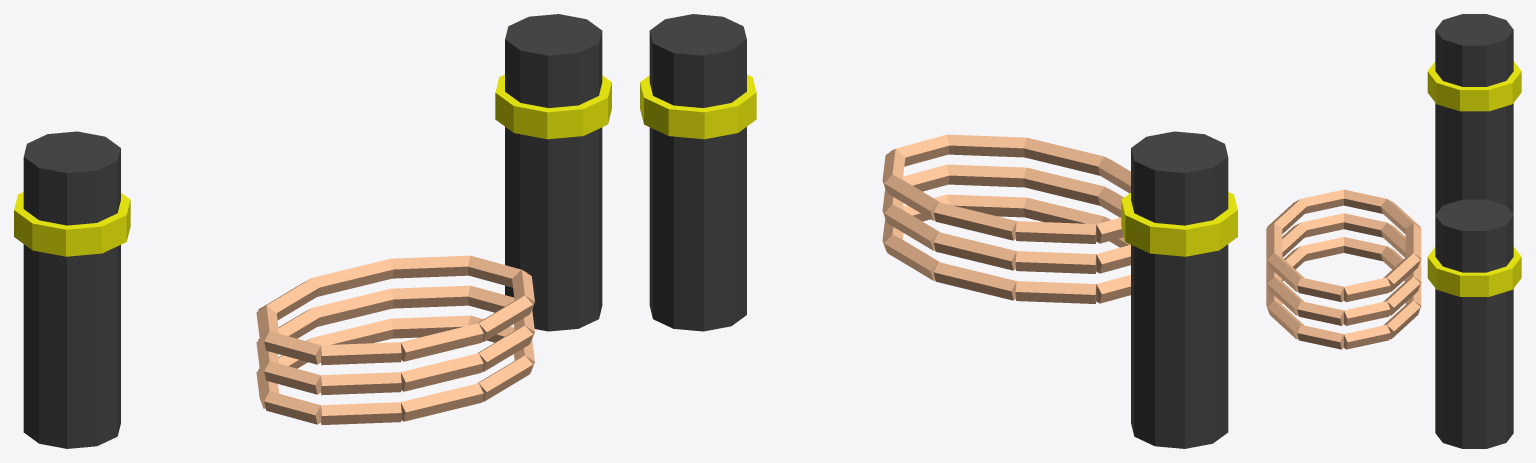
The picture shows the model from 3 angles, left to right: view 1: azimuth 30°, elevation 25°; view 2: azimuth 150°, elevation 25°; view 3: azimuth 270°, elevation 25°; orthographic projection. The views are drawn at different scales.
Parts seen in each view (by area): view 1: Mooring post, Mooring post.001, Post collar, Post collar.001, Coiled rope.007, Coiled rope.017, Coiled rope.027, Coiled rope.016, Coiled rope.026, Coiled rope.006, Coiled rope.012, Coiled rope.022 (+15 smaller); view 2: Mooring post, Mooring post.001, Post collar, Post collar.001, Coiled rope.022, Coiled rope.002, Coiled rope.012, Coiled rope.003, Coiled rope.023, Coiled rope.013, Coiled rope.027, Coiled rope.017 (+12 smaller); view 3: Mooring post.001, Mooring post, Post collar, Post collar.001, Coiled rope.029, Coiled rope.019, Coiled rope.009, Coiled rope, Coiled rope.020, Coiled rope.010, Coiled rope.025, Coiled rope.015 (+18 smaller).
Boxes of the visible parts, box(x1,y1,x2,y2) form: Mooring post: box(23, 131, 120, 448); Mooring post.001: box(505, 14, 602, 331); Post collar: box(14, 192, 130, 256); Post collar.001: box(495, 74, 611, 139); Coiled rope.007: box(400, 383, 483, 421); Coiled rope.017: box(400, 353, 483, 391); Coiled rope.027: box(401, 323, 483, 361); Coiled rope.016: box(321, 372, 401, 395); Coiled rope.026: box(321, 342, 401, 365); Coiled rope.006: box(321, 402, 401, 424); Coiled rope.012: box(313, 288, 393, 326); Coiled rope.022: box(313, 258, 393, 296); Mooring post: box(1131, 131, 1228, 448); Mooring post.001: box(649, 14, 746, 331); Post collar: box(1121, 192, 1237, 256); Post collar.001: box(640, 74, 756, 139); Coiled rope.022: box(933, 202, 1016, 240); Coiled rope.002: box(933, 262, 1016, 300); Coiled rope.012: box(933, 232, 1016, 270); Coiled rope.003: box(1015, 281, 1096, 303); Coiled rope.023: box(1015, 221, 1096, 243); Coiled rope.013: box(1015, 251, 1096, 273); Coiled rope.027: box(1023, 137, 1104, 175); Coiled rope.017: box(1023, 167, 1104, 205); Mooring post.001: box(1435, 199, 1513, 448); Mooring post: box(1435, 14, 1513, 214); Post collar: box(1427, 61, 1521, 111); Post collar.001: box(1427, 247, 1521, 296); Coiled rope.029: box(1297, 277, 1343, 302); Coiled rope.019: box(1297, 301, 1343, 325); Coiled rope.009: box(1297, 325, 1343, 349); Coiled rope: box(1344, 325, 1390, 349); Coiled rope.020: box(1344, 277, 1390, 302); Coiled rope.010: box(1344, 301, 1390, 325); Coiled rope.025: box(1301, 189, 1343, 213); Coiled rope.015: box(1301, 213, 1343, 237).
Bounding box in the file's own units: 101 × 46 × 48.84.
